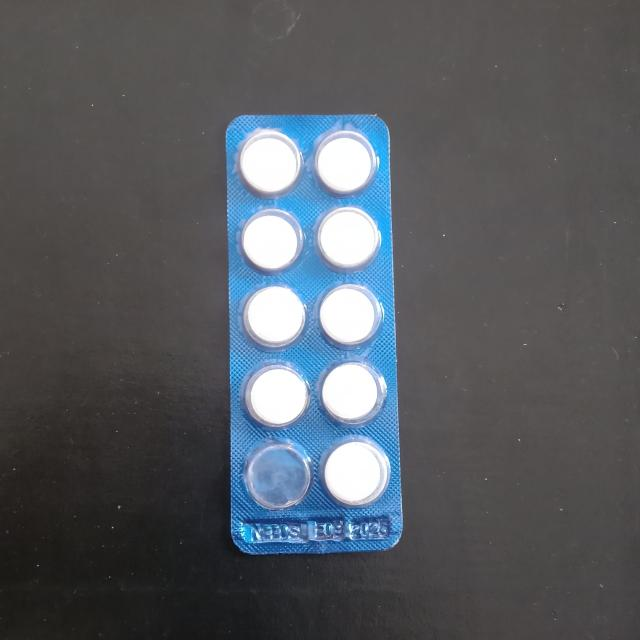defect: (244, 440, 317, 516)
